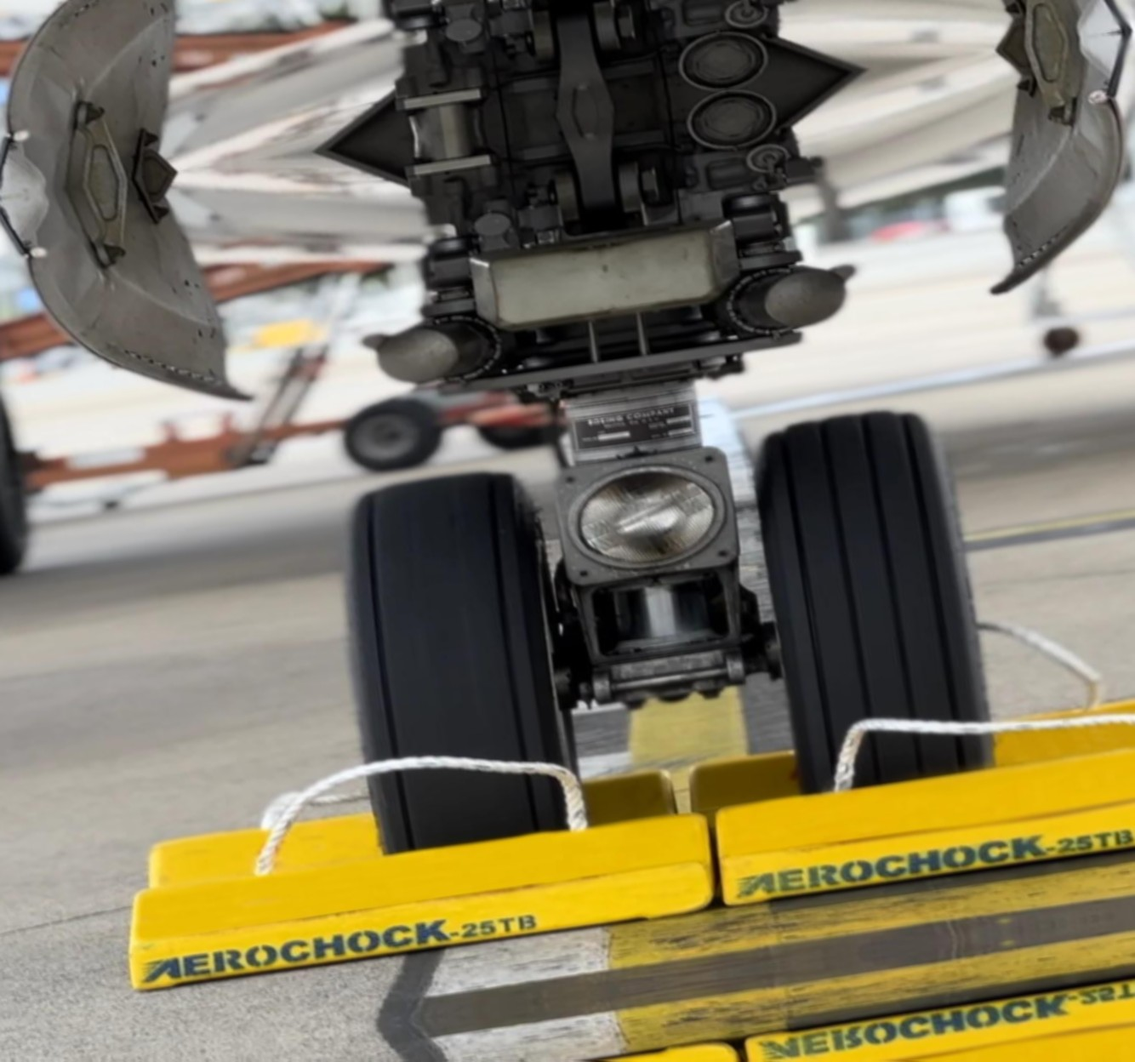chock: (118, 806, 722, 999), (710, 721, 1135, 912), (137, 761, 686, 896), (684, 686, 1135, 817), (744, 947, 1135, 1062)
wheel: (329, 460, 587, 855), (741, 401, 992, 800), (338, 395, 442, 475), (0, 404, 37, 579), (477, 411, 554, 454)
